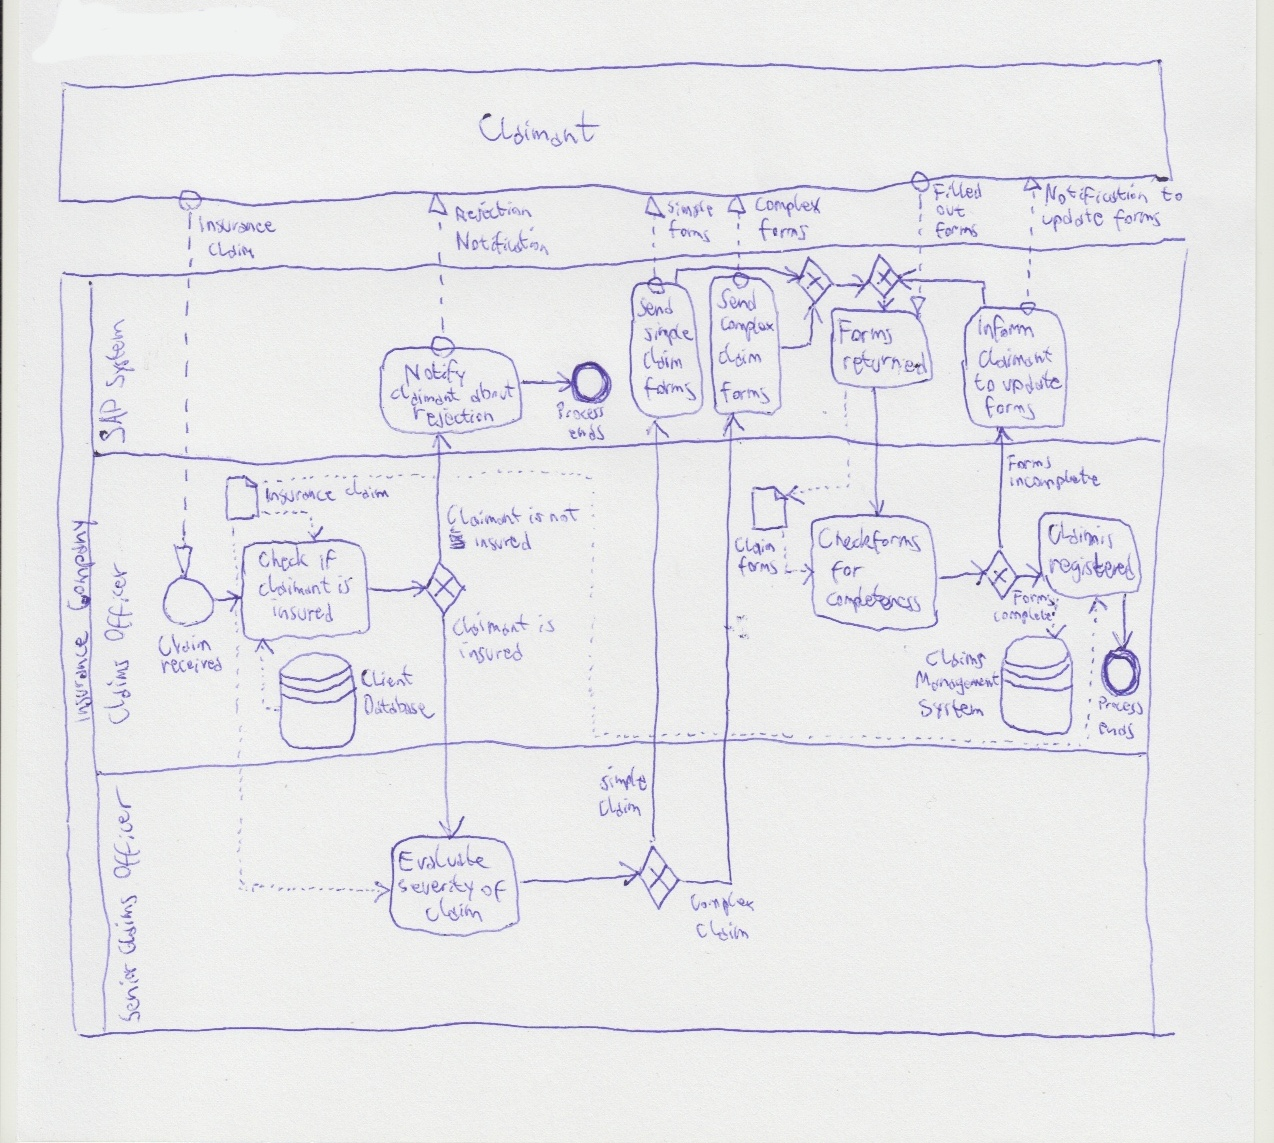Checkforms: (816, 526, 925, 557)
Claim: (640, 349, 690, 373), (596, 797, 645, 820), (160, 637, 216, 656), (734, 538, 785, 558)
Claimant: (477, 113, 602, 150), (449, 615, 529, 640), (445, 505, 520, 530)
Claims: (113, 884, 142, 958), (104, 654, 135, 725), (1047, 522, 1114, 551)
Client: (358, 665, 415, 691)
Company: (66, 517, 96, 606)
Complete: (992, 609, 1057, 627)
Complex: (752, 195, 825, 218), (690, 895, 758, 916), (717, 316, 777, 335)
Database: (364, 694, 438, 722)
Evaluate: (398, 848, 490, 875)
Filled: (932, 178, 984, 202)
Forms: (836, 322, 895, 348), (1010, 585, 1053, 610), (1006, 453, 1051, 472)
Insurance: (67, 624, 96, 724), (257, 482, 336, 509)
Management: (917, 671, 1003, 694)
Notification: (1043, 180, 1154, 209), (456, 229, 552, 259)
Notify: (408, 362, 469, 385)
Officer: (106, 784, 140, 880), (104, 566, 135, 645)
Process: (554, 402, 604, 423), (1095, 696, 1141, 716)
Rejection: (451, 197, 536, 224)
SAP: (97, 396, 131, 444)
Send: (716, 288, 757, 316)
Senior: (115, 962, 144, 1025)
System: (101, 319, 133, 389), (920, 699, 985, 722)
about: (469, 383, 520, 406)
check: (257, 549, 310, 573)
claim: (426, 902, 489, 925), (339, 482, 390, 506), (205, 241, 257, 263), (696, 923, 750, 943), (716, 346, 761, 368)
claimant: (973, 345, 1054, 372), (254, 574, 325, 601), (389, 386, 465, 406)
claims: (927, 648, 989, 670)
completeness: (826, 587, 923, 616)
ends: (1096, 720, 1141, 740), (568, 425, 604, 442)
for: (829, 559, 867, 581)
forms: (1109, 206, 1163, 232), (757, 218, 811, 243), (665, 221, 718, 245), (641, 378, 697, 400), (982, 396, 1036, 418), (718, 382, 770, 404), (735, 558, 780, 580), (934, 223, 979, 241)
if: (313, 547, 341, 571)
incomplete: (1007, 468, 1102, 493)
inform: (976, 317, 1037, 341)
insurance: (191, 215, 277, 237)
insured: (456, 642, 526, 667), (267, 602, 336, 624), (469, 532, 533, 554)
is: (332, 574, 357, 599), (522, 505, 542, 528), (539, 615, 556, 635)
not: (545, 503, 584, 527)
of: (480, 877, 507, 902)
out: (935, 203, 967, 221)
received: (159, 655, 224, 676)
registered: (1043, 554, 1138, 583)
rejection: (404, 400, 495, 429)
returned: (839, 351, 928, 377)
send: (636, 299, 675, 320)
severity: (394, 877, 477, 901)
simple: (662, 197, 718, 221), (598, 770, 649, 794), (641, 323, 693, 346)
to: (1158, 184, 1184, 209), (973, 374, 998, 396)
update: (1038, 207, 1106, 233), (1002, 372, 1061, 396)
